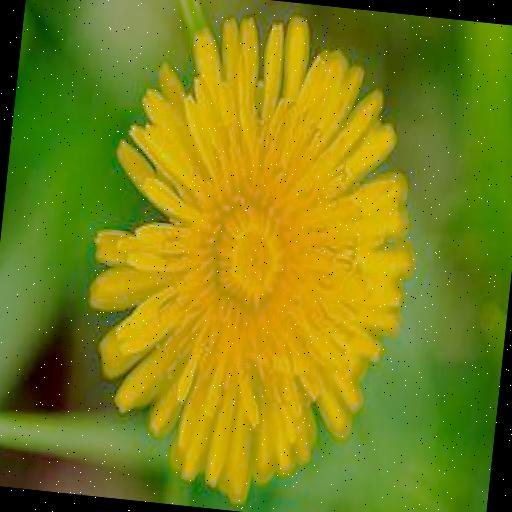dandelion: (62, 2, 434, 508)
